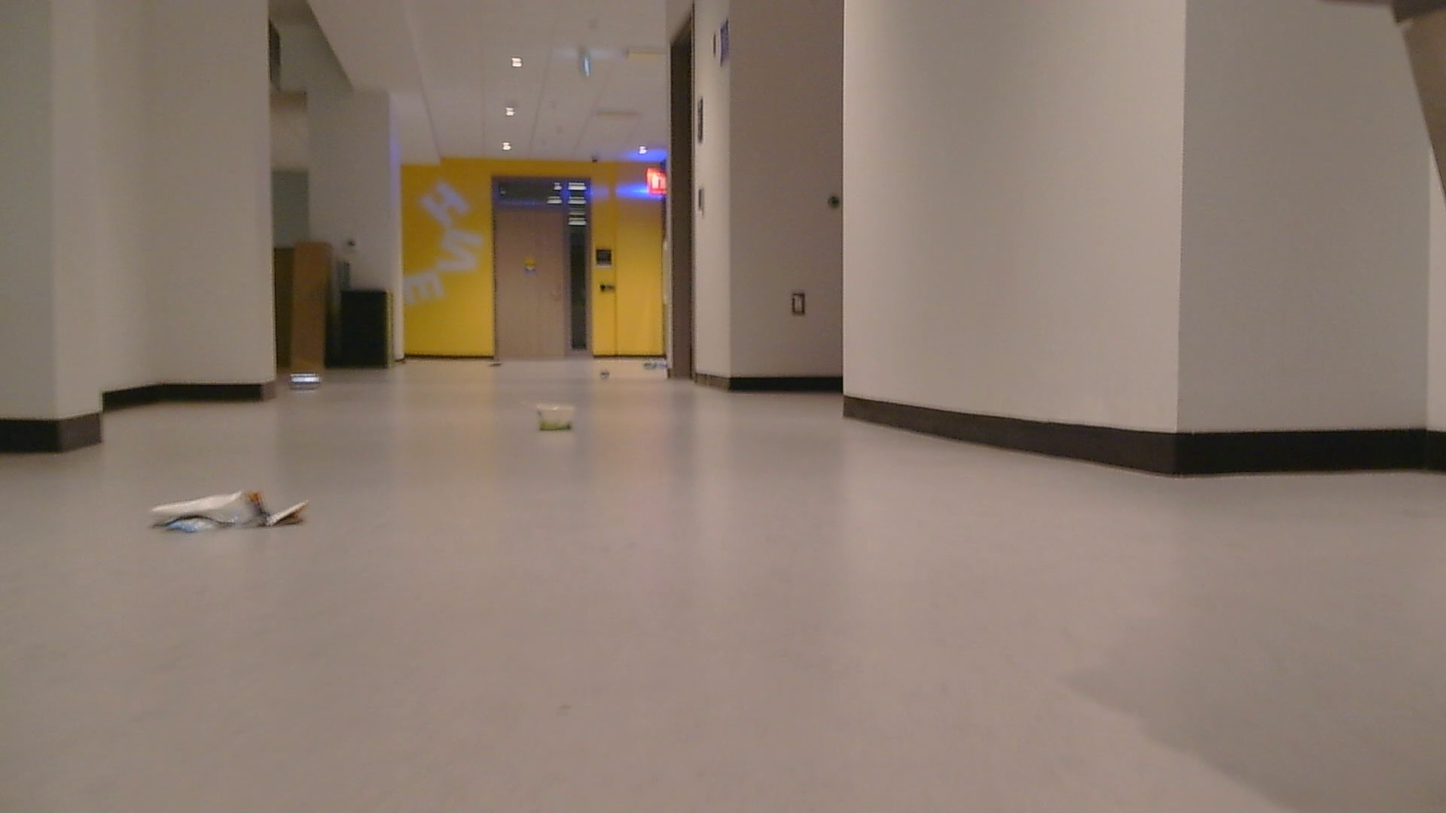carton: (140, 480, 344, 546), (529, 394, 585, 438), (291, 364, 332, 390), (634, 361, 688, 375), (601, 364, 613, 380), (480, 358, 493, 368)
